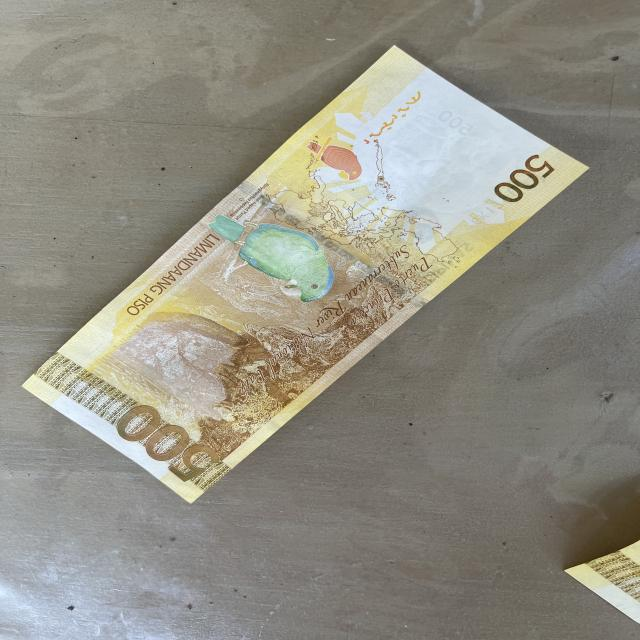500_big_parrot: (211, 219, 336, 303)
500_parrot_watermark: (304, 139, 366, 183)
value_watermark: (434, 108, 477, 135)
watermark: (384, 108, 508, 206)
